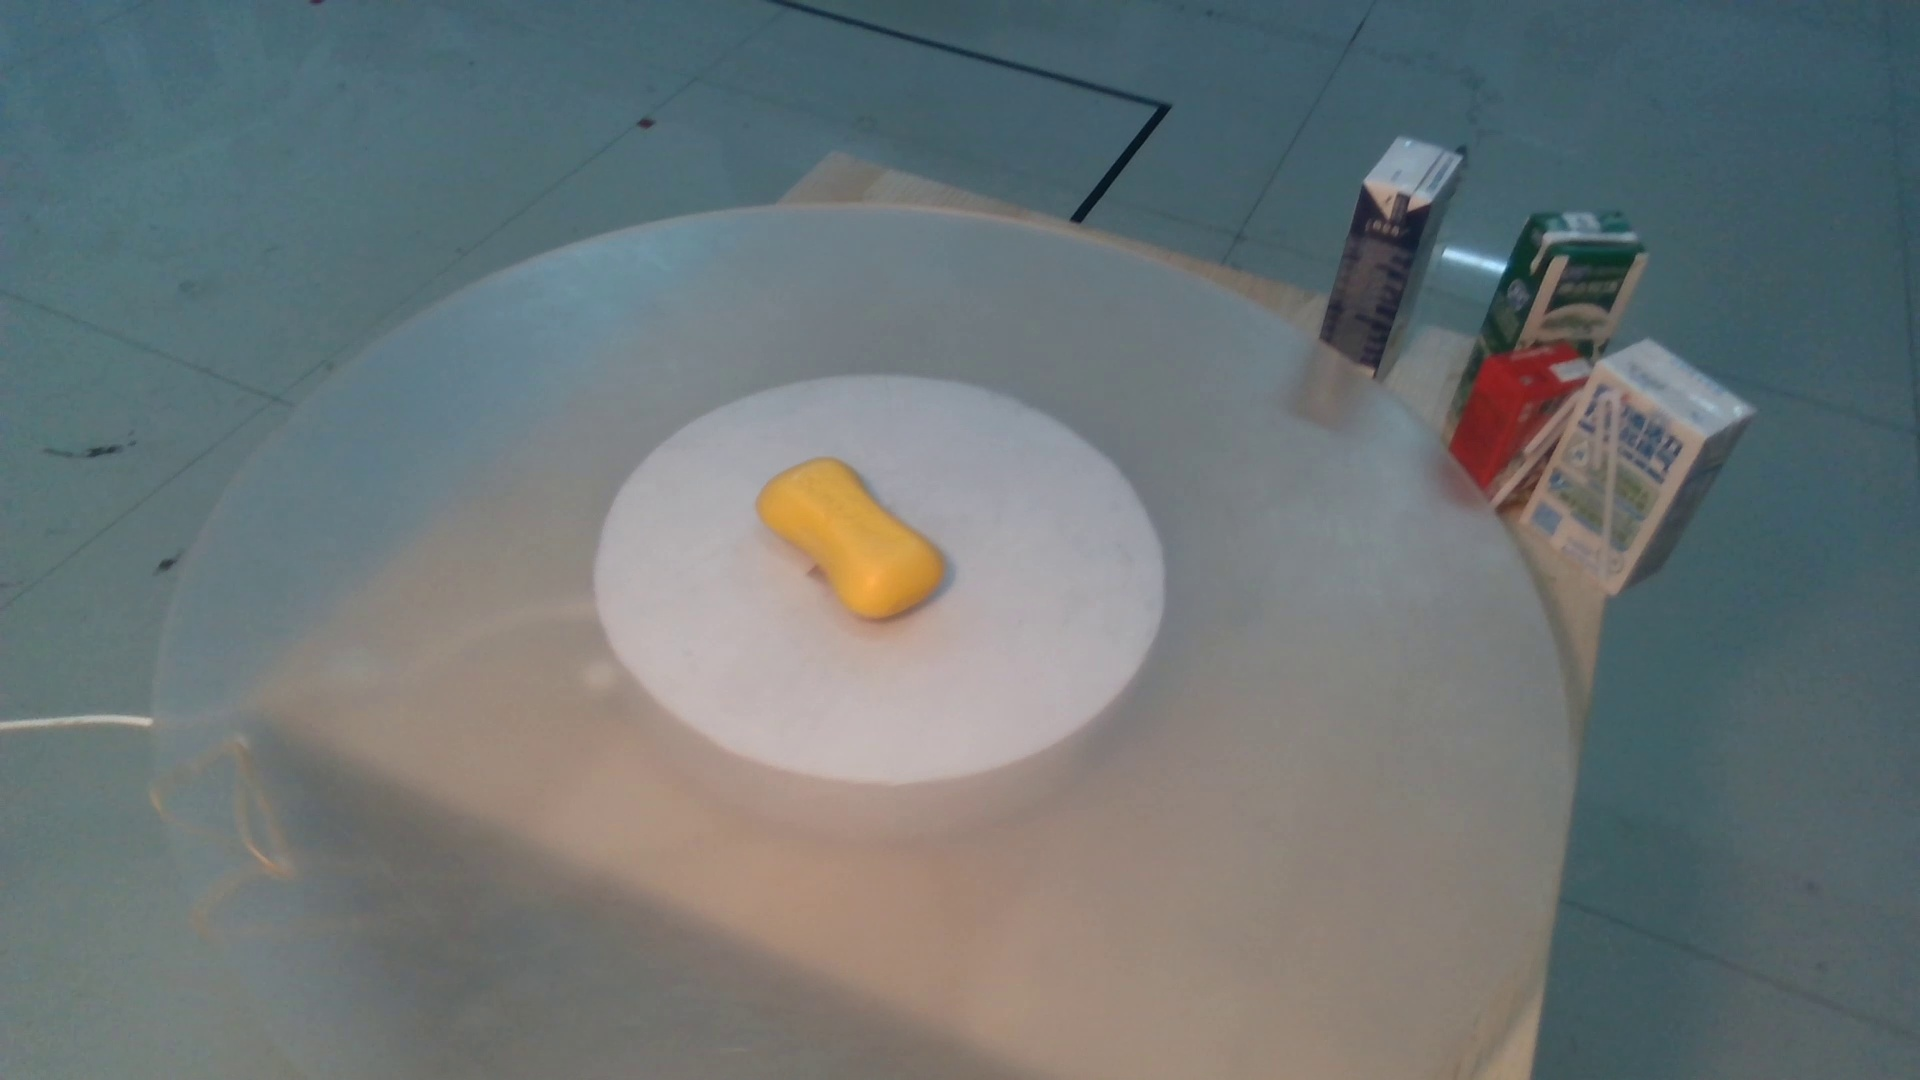CA003_1: (752, 448, 998, 640)
